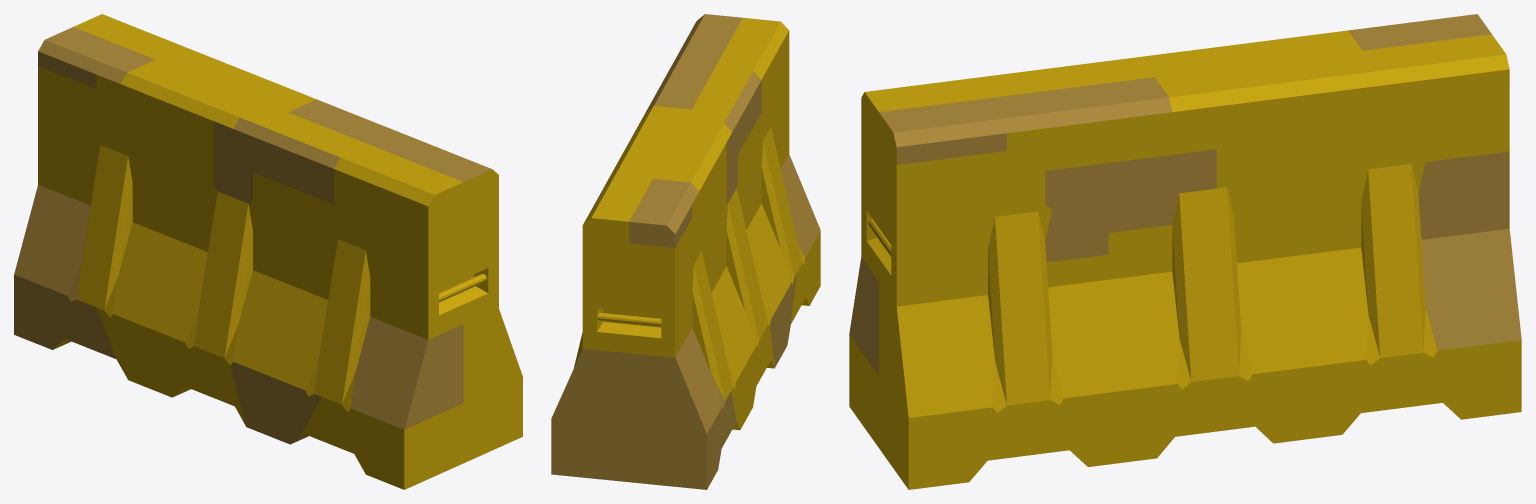
The model's file is plasticbarrier_lev1.glb.
The picture shows the model from 3 angles, left to right: view 1: azimuth 30°, elevation 25°; view 2: azimuth 150°, elevation 25°; view 3: azimuth 270°, elevation 25°; orthographic projection. The views are drawn at different scales.
Parts seen in each view (by area): view 1: plasticbarrier_lev1; view 2: plasticbarrier_lev1; view 3: plasticbarrier_lev1.
Boxes of the visible parts, x1=… form: plasticbarrier_lev1: x1=14, y1=14, x2=522, y2=489; plasticbarrier_lev1: x1=551, y1=14, x2=820, y2=489; plasticbarrier_lev1: x1=849, y1=14, x2=1521, y2=489.
Bounding box in the file's own units: 1.18 × 1.14 × 2.08.
Materials: 1 (1 with a texture image).
